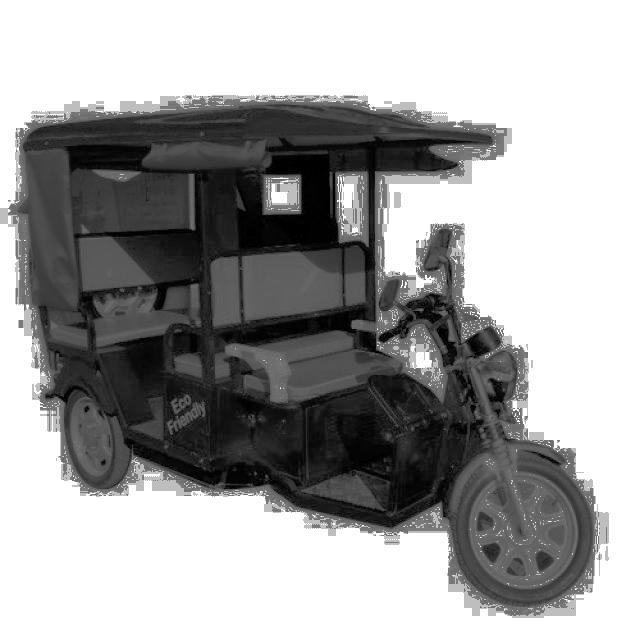Toto: (26, 96, 585, 604)
